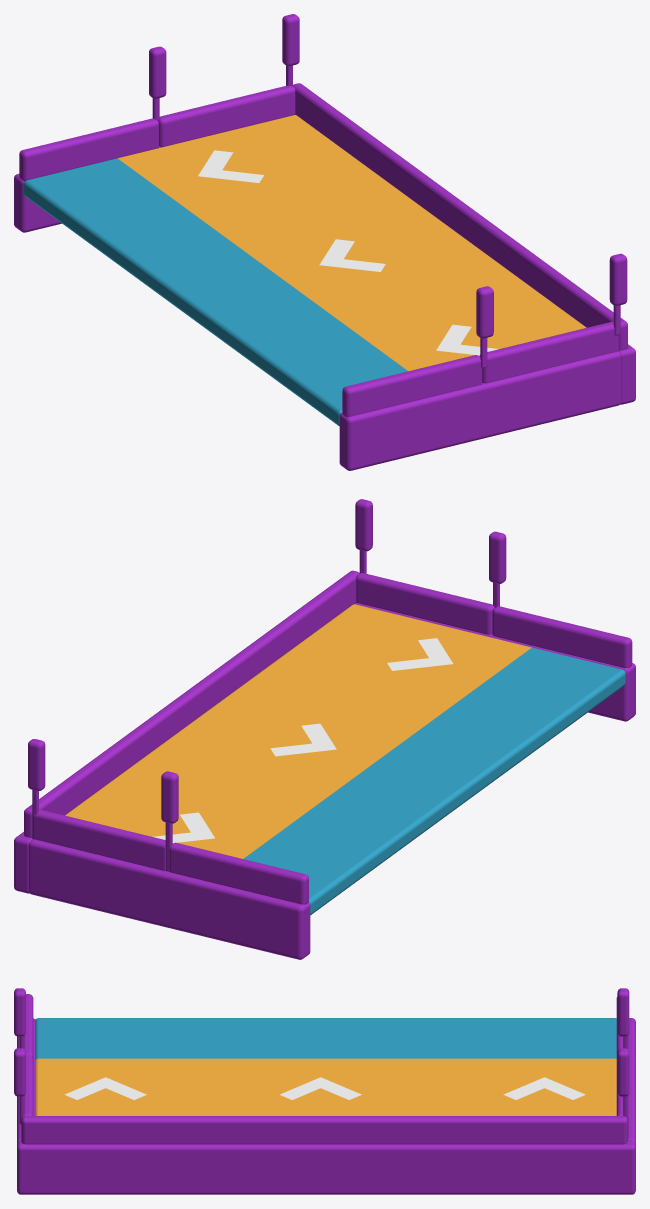
The model's file is Platform1.fbx.
The picture shows the model from 3 angles, top to bottom: view 1: azimuth 30°, elevation 25°; view 2: azimuth 150°, elevation 25°; view 3: azimuth 270°, elevation 25°; orthographic projection. The views are drawn at different scales.
Visible parts, largest first — view 1: Cube_5, Cube_8, Cube_13, Cube_10, Cube_11, Cube_9, Cube_12, Cube_6, Cube_14, Cube_17_2, Cube_17, Cube_14_2 (+1 smaller); view 2: Cube_5, Cube_6, Cube_13, Cube_11, Cube_10, Cube_12, Cube_9, Cube_8, Cube_17_2, Cube_14, Cube_17, Cube_14_2 (+1 smaller); view 3: Cube_5, Cube_7, Cube_13, Cube_6, Cube_14_2, Cube_17_2, Cube_14, Cube_17, Cube_11, Cube_12, Cube_8, Plane_5 (+5 smaller).
Part boxes in pixels (x1=…): Cube_5: x1=23, y1=115, x2=586, y2=426; Cube_8: x1=339, y1=351, x2=620, y2=470; Cube_13: x1=293, y1=83, x2=627, y2=350; Cube_10: x1=19, y1=118, x2=158, y2=180; Cube_11: x1=342, y1=355, x2=482, y2=416; Cube_9: x1=158, y1=85, x2=295, y2=147; Cube_12: x1=479, y1=321, x2=618, y2=383; Cube_6: x1=14, y1=146, x2=160, y2=232; Cube_14: x1=609, y1=253, x2=627, y2=305; Cube_17_2: x1=149, y1=46, x2=166, y2=98; Cube_17: x1=476, y1=286, x2=493, y2=338; Cube_14_2: x1=282, y1=14, x2=299, y2=66; Cube_5: x1=65, y1=604, x2=625, y2=915; Cube_6: x1=29, y1=839, x2=310, y2=959; Cube_13: x1=24, y1=570, x2=359, y2=837; Cube_11: x1=492, y1=606, x2=632, y2=667; Cube_10: x1=169, y1=842, x2=308, y2=904; Cube_12: x1=356, y1=573, x2=494, y2=634; Cube_9: x1=33, y1=809, x2=165, y2=870; Cube_8: x1=355, y1=602, x2=635, y2=721; Cube_17_2: x1=161, y1=771, x2=178, y2=823; Cube_14: x1=355, y1=499, x2=372, y2=551; Cube_17: x1=489, y1=531, x2=506, y2=583; Cube_14_2: x1=28, y1=739, x2=45, y2=791; Cube_5: x1=35, y1=1018, x2=616, y2=1115; Cube_7: x1=17, y1=1140, x2=635, y2=1194; Cube_13: x1=21, y1=1116, x2=627, y2=1144; Cube_6: x1=628, y1=1018, x2=635, y2=1143; Cube_14_2: x1=617, y1=1048, x2=629, y2=1096; Cube_17_2: x1=617, y1=988, x2=629, y2=1036; Cube_14: x1=14, y1=1048, x2=25, y2=1096; Cube_17: x1=14, y1=988, x2=25, y2=1036; Cube_11: x1=24, y1=994, x2=33, y2=1058; Cube_12: x1=24, y1=1055, x2=33, y2=1116; Cube_8: x1=17, y1=1018, x2=35, y2=1143; Plane_5: x1=279, y1=1077, x2=329, y2=1099.
Bounding box in the file's own units: 2106 × 1043 × 4251.
